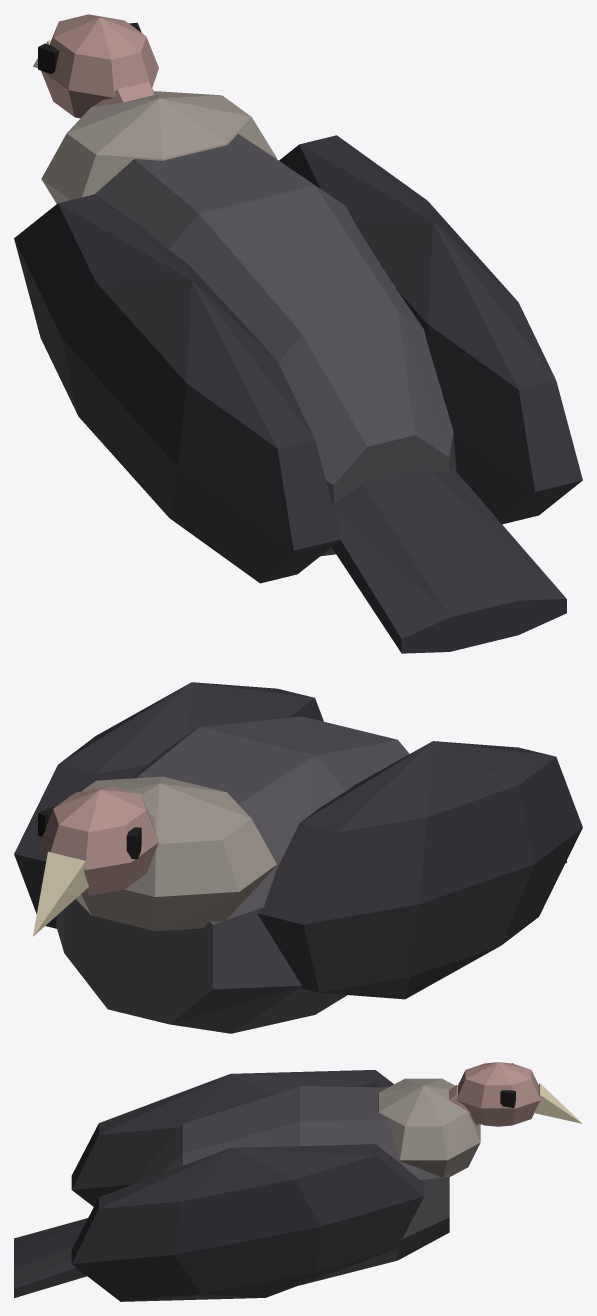
Rendered from animal_vulture.obj.
3 renders of one model, top to bottom at view 1: azimuth 30°, elevation 25°; view 2: azimuth 150°, elevation 25°; view 3: azimuth 270°, elevation 25°, orthographic. The views are drawn at different scales.
Parts seen in each view (by area): view 1: animal_vulture; view 2: animal_vulture; view 3: animal_vulture.
Boxes of the visible parts, bbox=[...] form: animal_vulture: bbox=[14, 14, 582, 653]; animal_vulture: bbox=[14, 682, 582, 1033]; animal_vulture: bbox=[14, 1062, 582, 1301].
Size of the model in its own units: 0.3994 by 0.3701 by 0.875.
